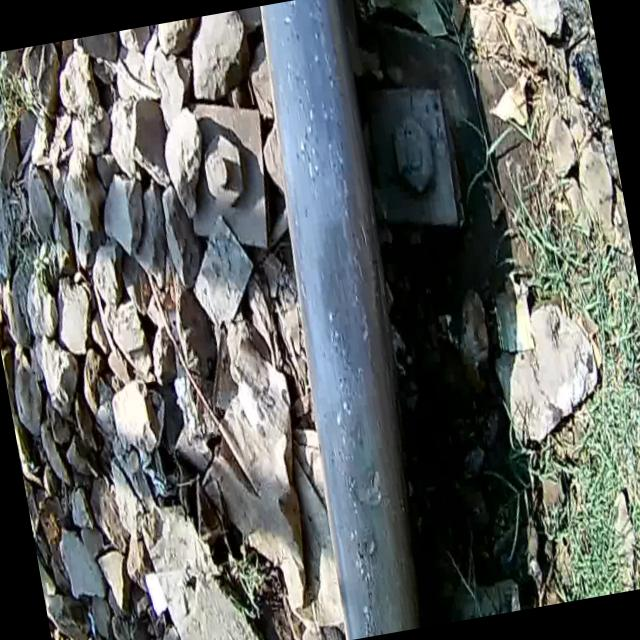Squats: (271, 196, 418, 407)
